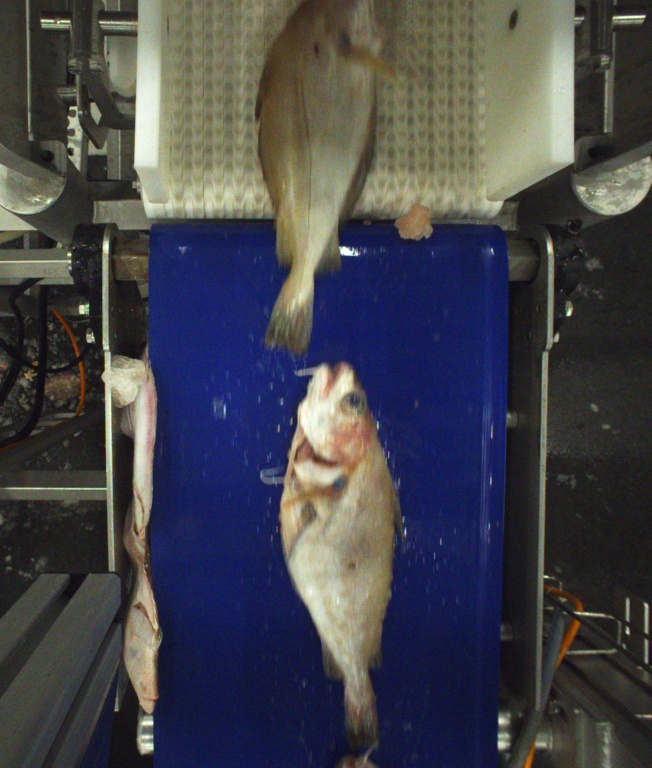BIB: (254, 0, 387, 355)
